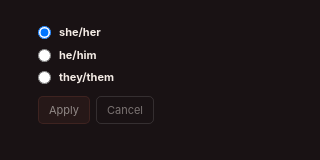
Test: PronounPicker › shows an error alert when setPersonaPronouns fails
Click the radio button labelled "he/him" at [44, 55], box top-left (38, 49), bottom-right (51, 62)
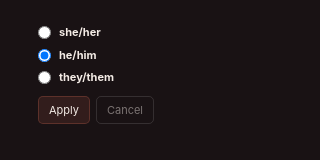
Click the button "Apply" at [64, 110], box top-left (38, 96), bottom-right (90, 124)
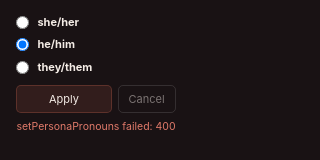
Check: the message "setPersonaPronouns failed: 400" is shown, box top-left (16, 119), bottom-right (176, 134)
